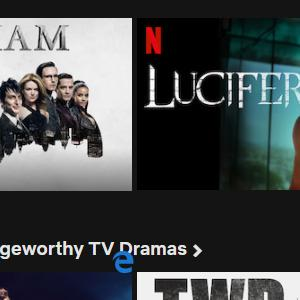edge: (112, 251, 134, 274)
